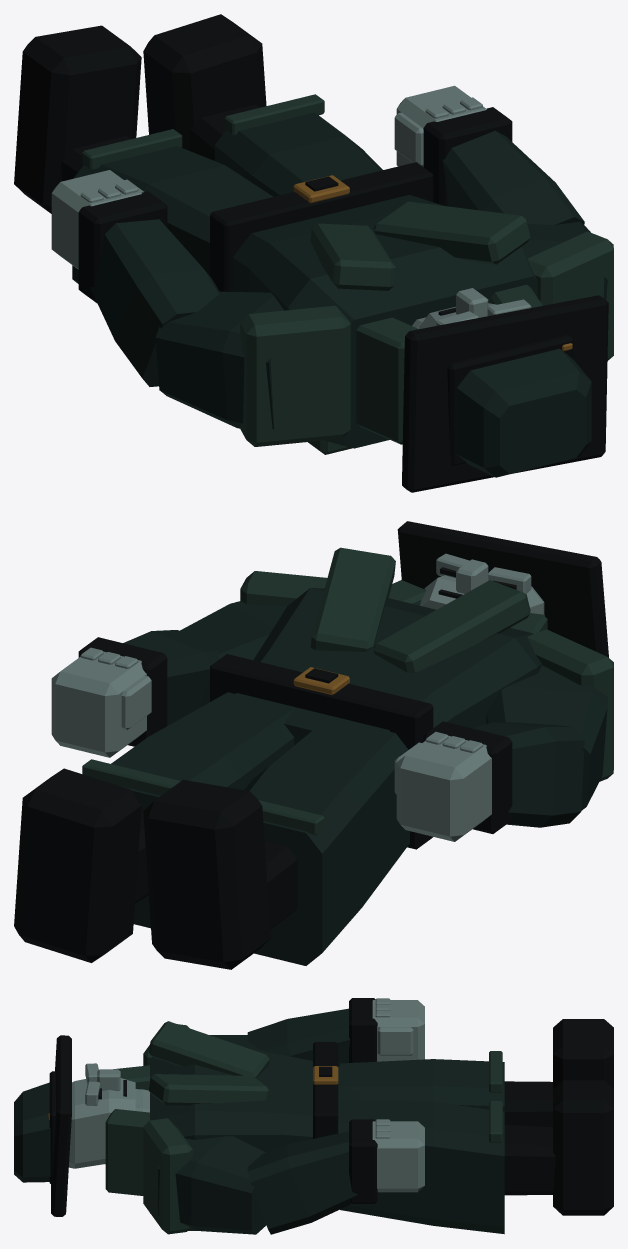
File: tyrant.obj
3 views of the same model, one above another, from view 1: azimuth 30°, elevation 25°; view 2: azimuth 150°, elevation 25°; view 3: azimuth 270°, elevation 25° (orthographic). The views are drawn at different scales.
Parts seen in each view (by area): view 1: coat_chest, hat_brim, boot_1, shoulder_yoke_1, hat_pinched_crown, fore_sleeve_1, boot_-1, upper_sleeve_1, split_coat_tail_1, split_coat_tail_-1, fore_sleeve_-1, waist_belt (+18 smaller); view 2: split_coat_tail_1, boot_1, boot_-1, coat_chest, split_coat_tail_-1, hat_brim, waist_belt, fist_1, fore_sleeve_1, lapel_1, fist_-1, upper_sleeve_1 (+17 smaller); view 3: split_coat_tail_-1, coat_chest, boot_-1, fore_sleeve_-1, upper_sleeve_-1, split_coat_tail_1, shoulder_yoke_-1, lapel_1, boot_1, shin_-1, fore_sleeve_1, head (+20 smaller).
Boxes of the visible parts, bbox=[...] form: coat_chest: bbox=[232, 195, 539, 448]; hat_brim: bbox=[402, 295, 608, 492]; boot_1: bbox=[14, 25, 141, 213]; shoulder_yoke_1: bbox=[240, 305, 350, 446]; hat_pinched_crown: bbox=[457, 348, 591, 477]; fore_sleeve_1: bbox=[90, 219, 219, 386]; boot_-1: bbox=[143, 14, 266, 150]; upper_sleeve_1: bbox=[155, 291, 284, 429]; split_coat_tail_1: bbox=[72, 146, 273, 283]; split_coat_tail_-1: bbox=[214, 112, 382, 196]; fore_sleeve_-1: bbox=[442, 130, 584, 224]; waist_belt: bbox=[210, 162, 433, 291]; split_coat_tail_1: bbox=[244, 717, 409, 965]; boot_1: bbox=[143, 780, 270, 969]; boot_-1: bbox=[14, 768, 141, 962]; coat_chest: bbox=[236, 588, 541, 744]; split_coat_tail_-1: bbox=[111, 692, 294, 928]; hat_brim: bbox=[397, 521, 608, 657]; waist_belt: bbox=[210, 654, 433, 849]; fist_1: bbox=[396, 735, 491, 841]; fore_sleeve_1: bbox=[473, 722, 584, 827]; lapel_1: bbox=[373, 580, 530, 672]; fist_-1: bbox=[51, 651, 146, 757]; upper_sleeve_1: bbox=[486, 665, 607, 810]; split_coat_tail_-1: bbox=[340, 1099, 504, 1234]; coat_chest: bbox=[150, 1048, 359, 1213]; boot_-1: bbox=[553, 1080, 613, 1215]; fore_sleeve_-1: bbox=[247, 1131, 357, 1234]; upper_sleeve_-1: bbox=[158, 1136, 266, 1234]; split_coat_tail_1: bbox=[340, 1059, 504, 1111]; shoulder_yoke_-1: bbox=[143, 1118, 192, 1234]; lapel_1: bbox=[149, 1021, 269, 1078]; boot_1: bbox=[553, 1019, 613, 1089]; shin_-1: bbox=[504, 1125, 555, 1195]; fore_sleeve_1: bbox=[247, 1008, 350, 1066]; head: bbox=[69, 1078, 135, 1168].
Size of the model in its own units: 2.04 by 0.898 by 3.35.
